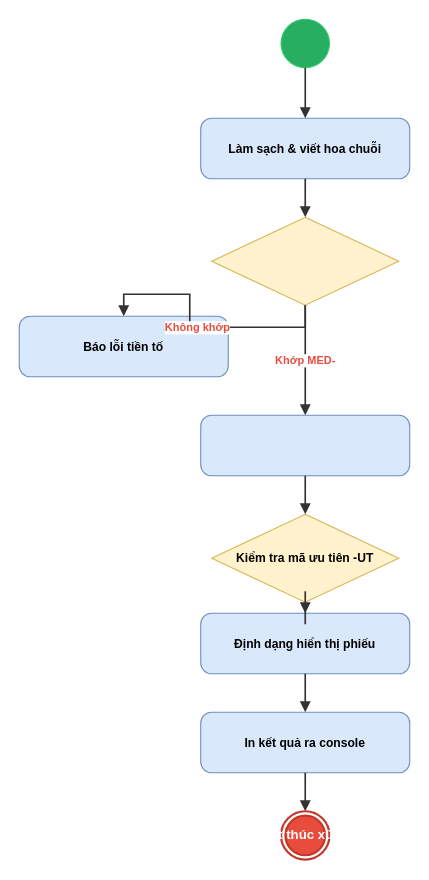
Some shapes in this 429 by 880 pixel diagram are drawn without their labels. Each missing label, with the box of its shape:
Cắt mã khoa điều trị: (200, 414, 410, 476)
Kiểm tra tiền tố MED-: (211, 216, 399, 305)
Nhận rawTicketCode: (280, 18, 329, 68)
